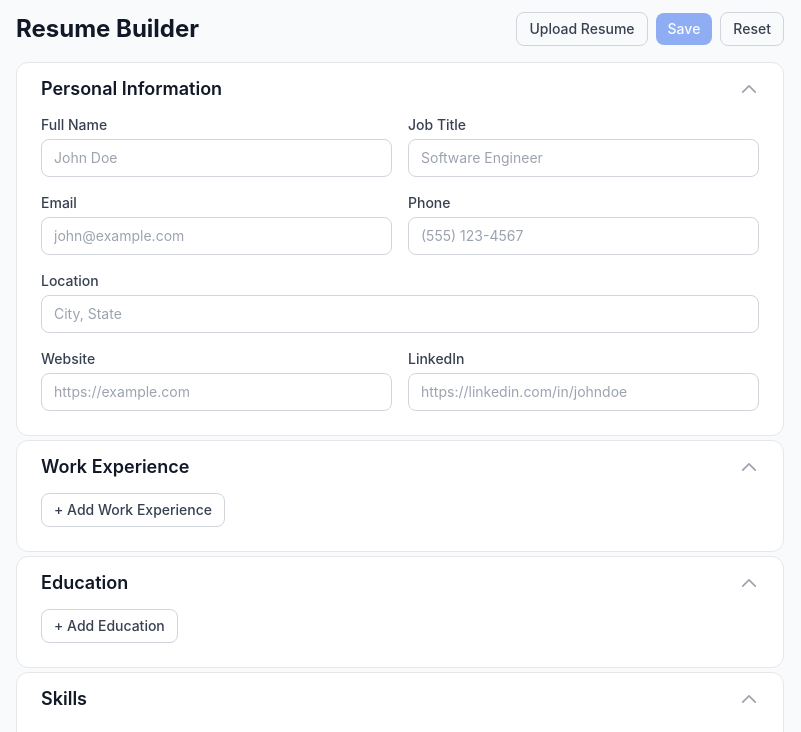
ResumeBuilder › shows Saved badge after clicking Save
Type "Test" into the field with placeholder "John Doe" at (216, 158), box [41,139,392,177]
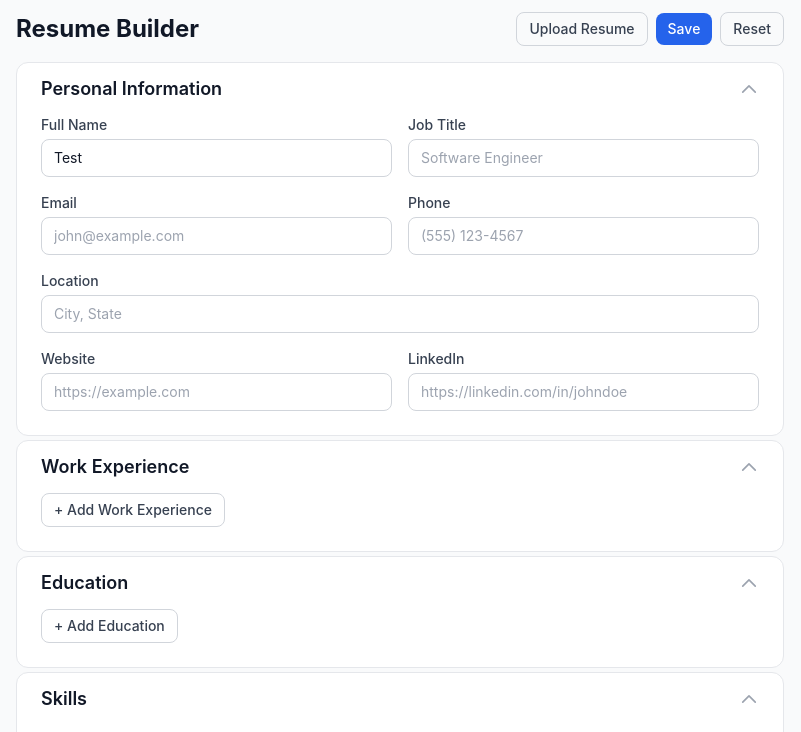
Click the button with test id "save-btn" at (684, 29), box [656,13,712,45]
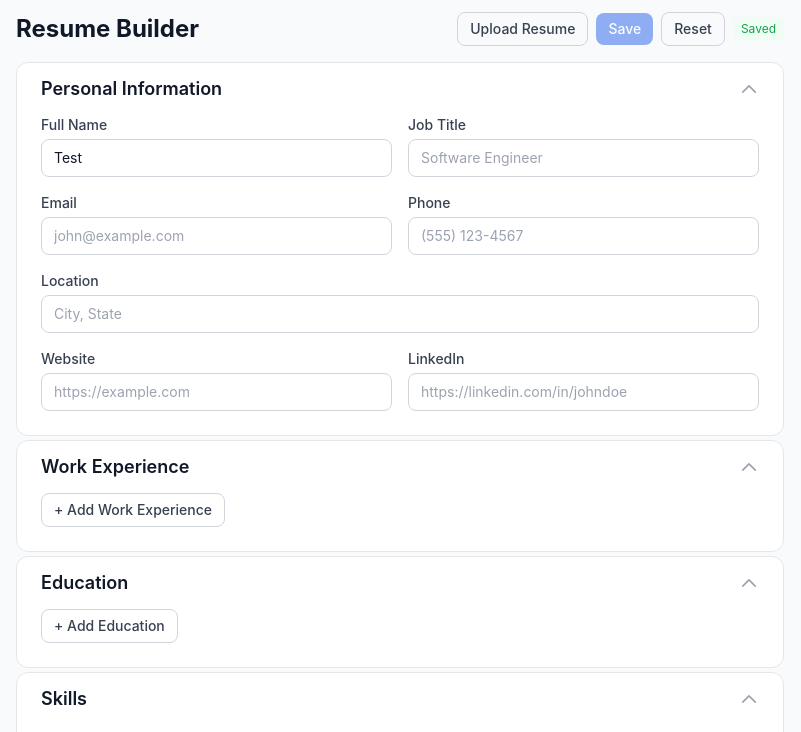
Now the text "Saved" is shown, box [733,17,784,41]
Now the text with test id "save-status" reads "Saved", box [741,21,776,36]
